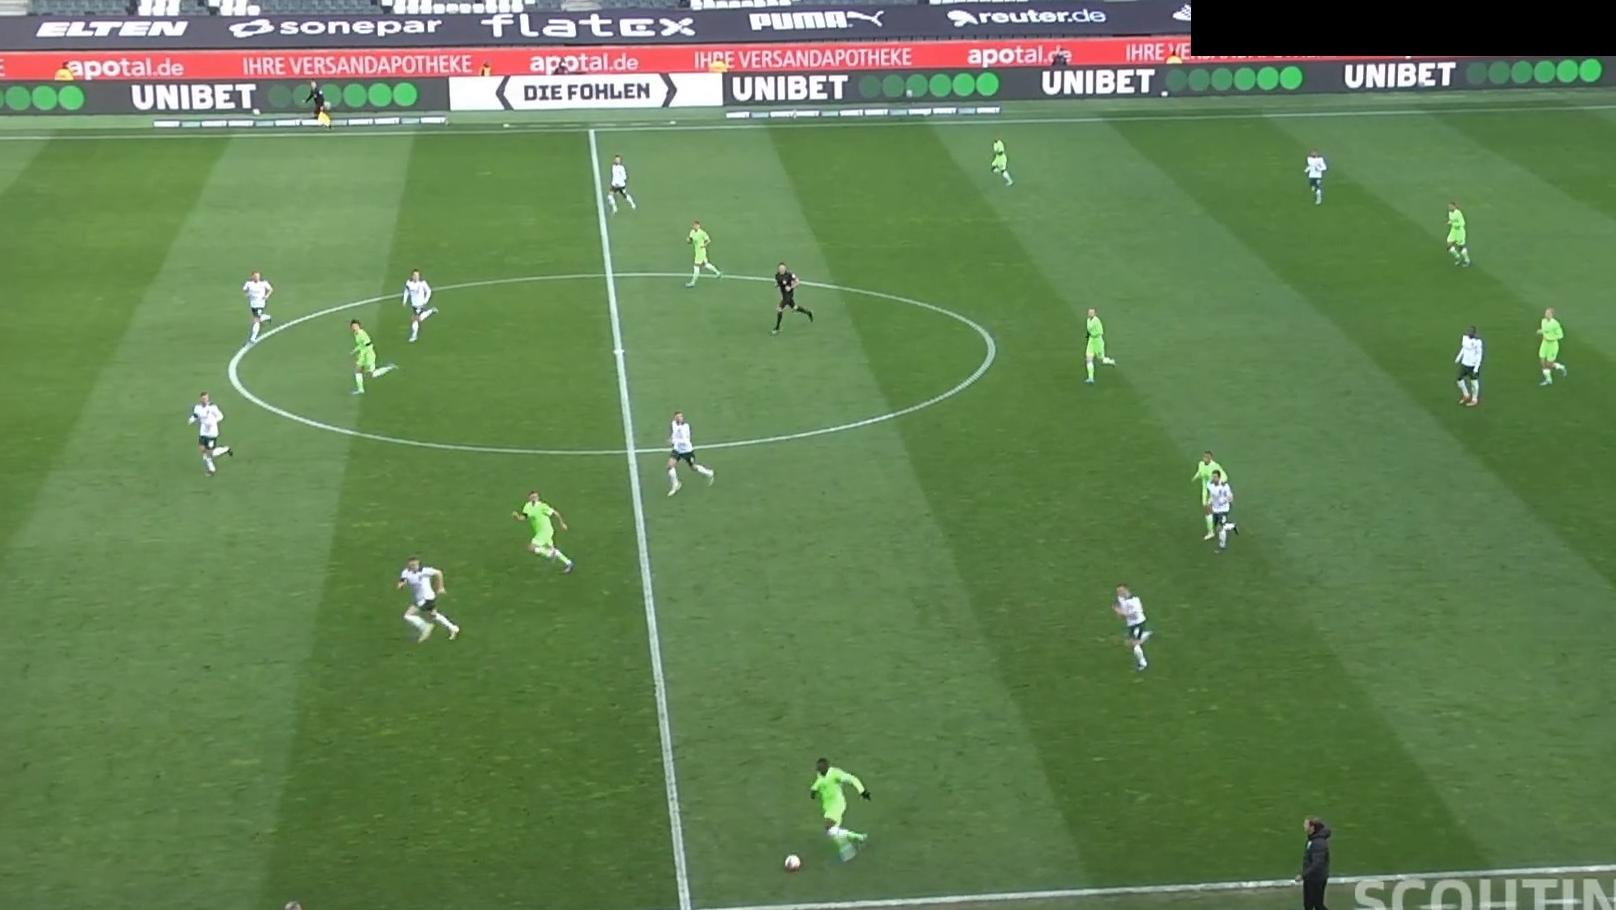ball: (782, 852, 804, 873)
